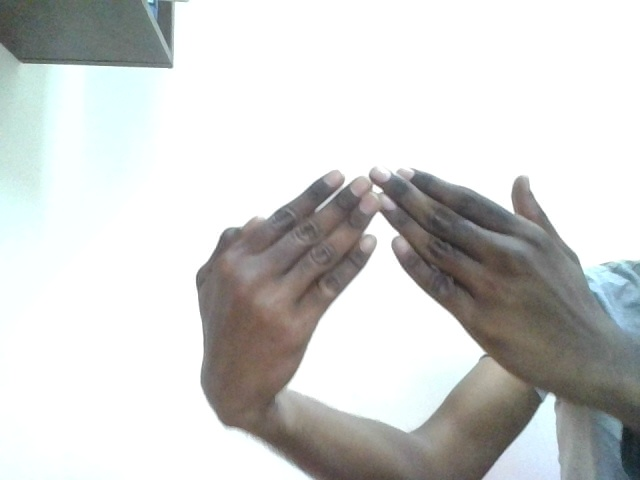Thank You: (214, 165, 557, 362)
